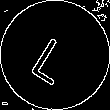L_NE: (29, 25, 81, 85)
